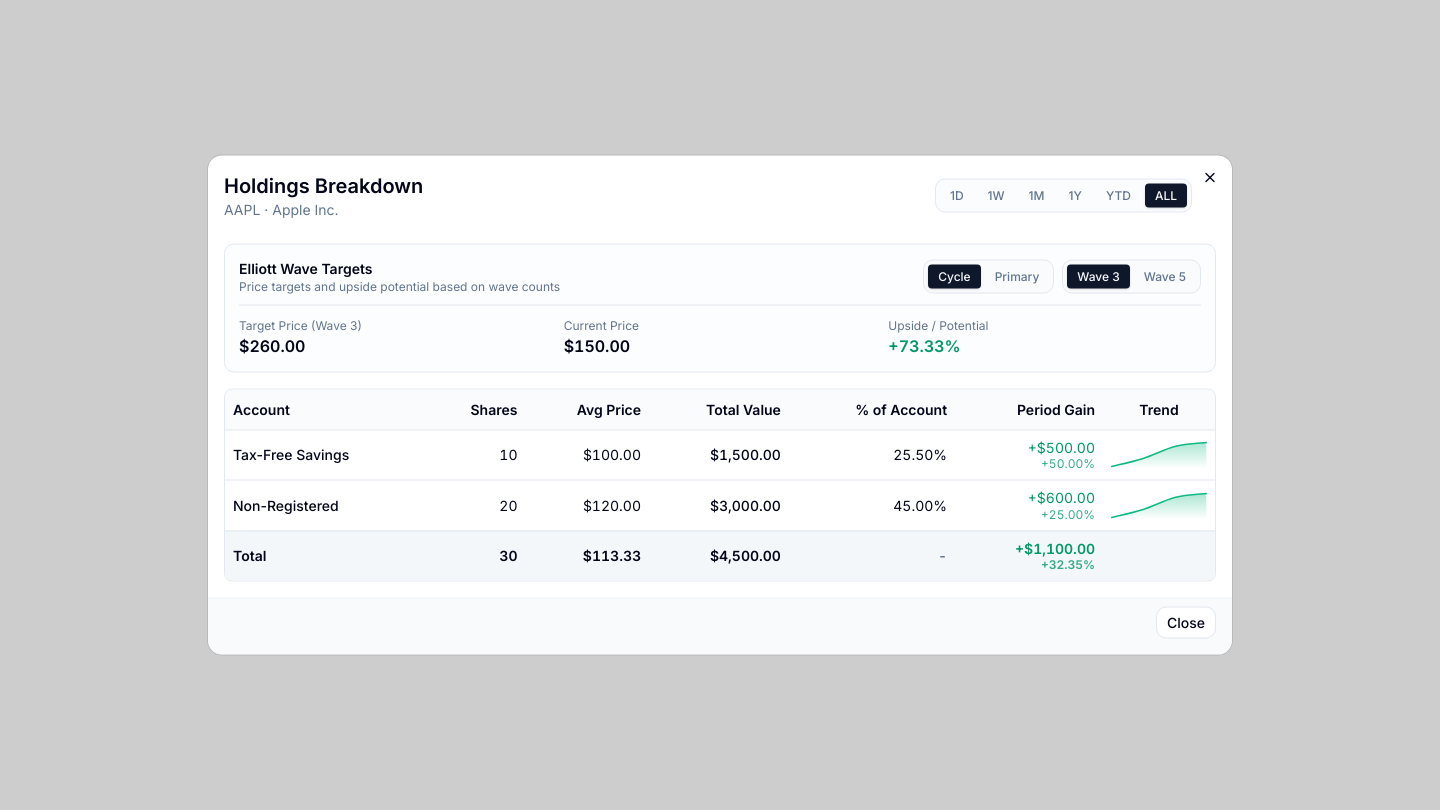
Test case: HoldingsModal Component › Elliott Wave Targets panel › tracks the rightmost wave when multiple cycle waves exist
The width and height of the screenshot is (1440, 810).
Expected: the text with test id "wave-target-price" reads "$260.00", [239,336,306,356]
Click the button "Wave 5" at (1165,276), box [1134,264,1196,288]
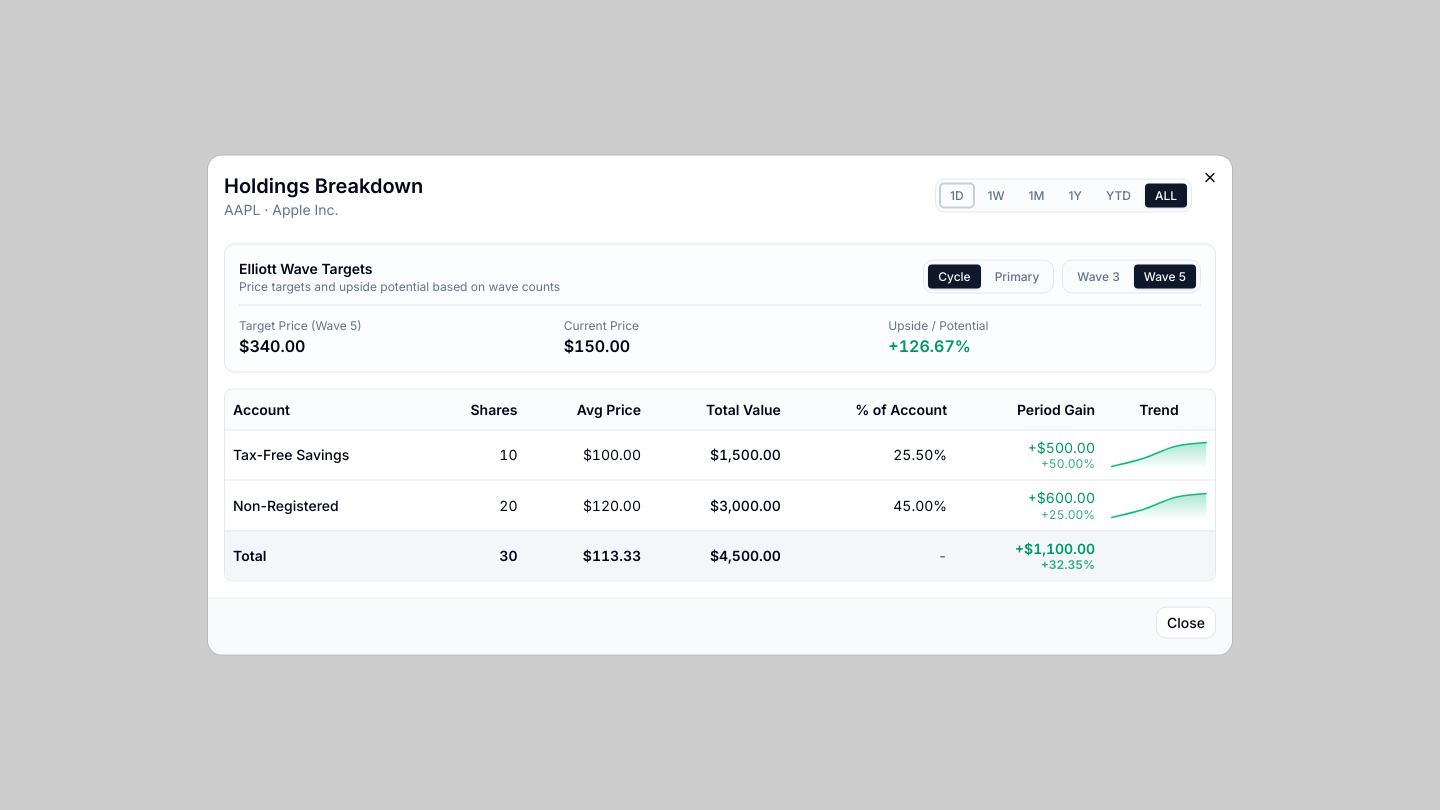
Now the text with test id "wave-target-price" reads "$340.00", box [239,336,306,356]
